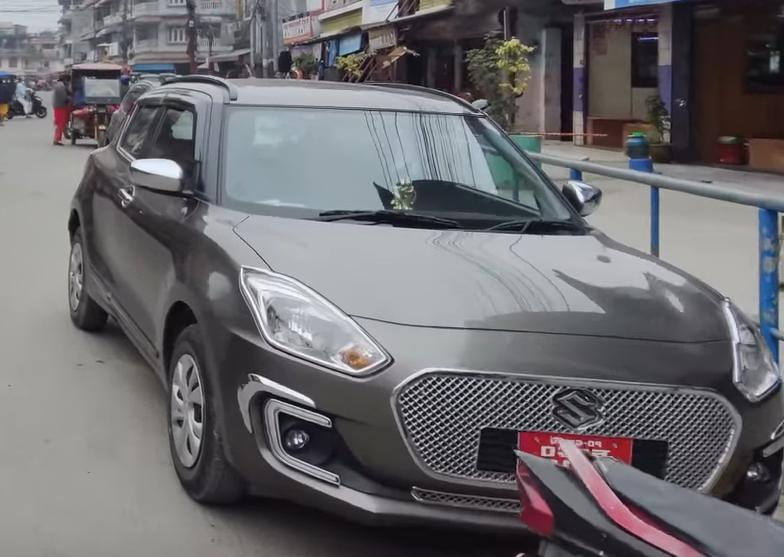car: (63, 63, 784, 557)
e-rickshaw: (57, 57, 132, 147)
